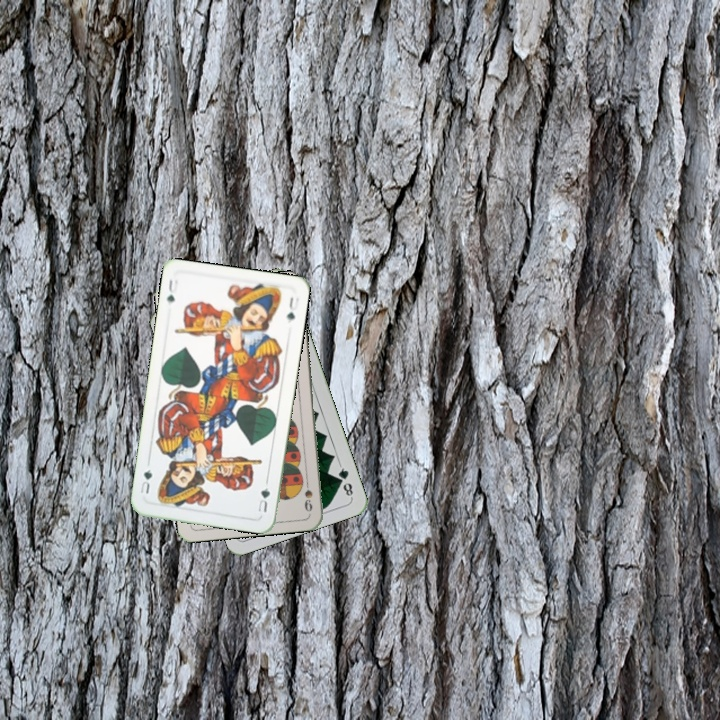G8: (334, 461, 356, 500)
GU: (163, 275, 181, 308), (254, 483, 272, 515)
S9: (300, 474, 315, 514)
